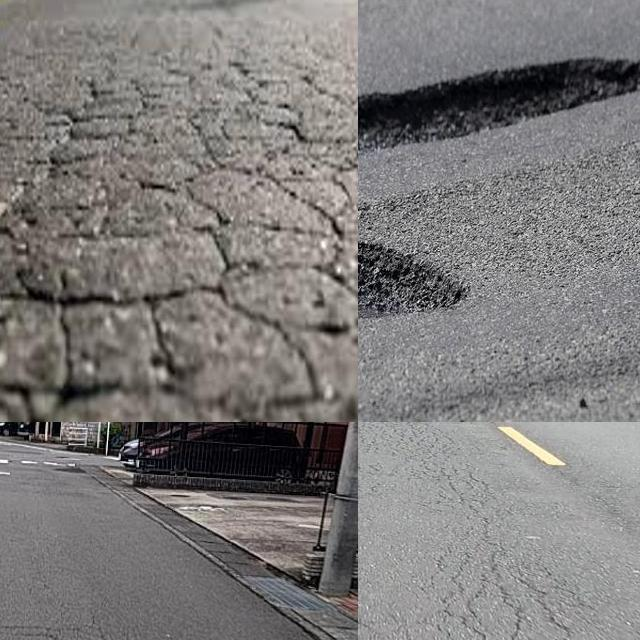Lubang: (358, 54, 640, 161), (358, 249, 465, 325)
Melintang: (0, 615, 223, 640)
Retak Buaya: (0, 23, 358, 422)
